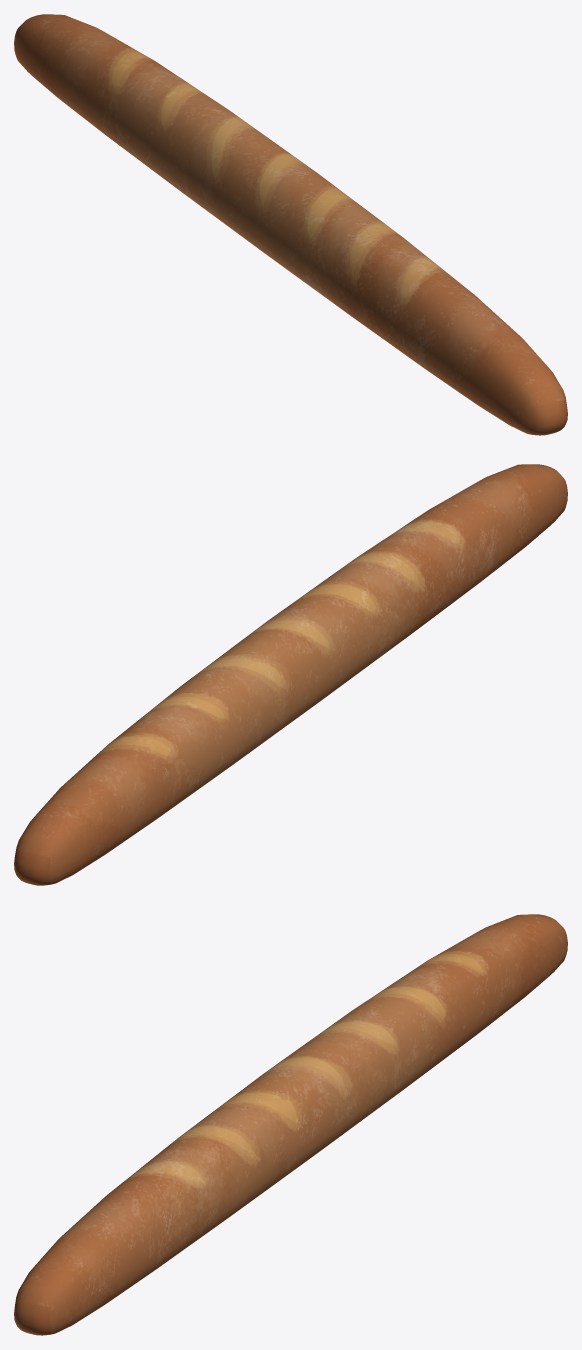
File: Bread.fbx
The picture shows the model from 3 angles, top to bottom: view 1: azimuth 30°, elevation 25°; view 2: azimuth 150°, elevation 25°; view 3: azimuth 330°, elevation 25°; orthographic projection.
Parts seen in each view (by area): view 1: Bread; view 2: Bread; view 3: Bread.
Part boxes in pixels (box(x1,y1,x2,y2)): Bread: box(14, 14, 567, 435); Bread: box(14, 464, 567, 885); Bread: box(14, 914, 567, 1335).
Size of the model in its own units: 2.45 by 29.68 by 2.56.
Materials: 1 (1 with a texture image).
